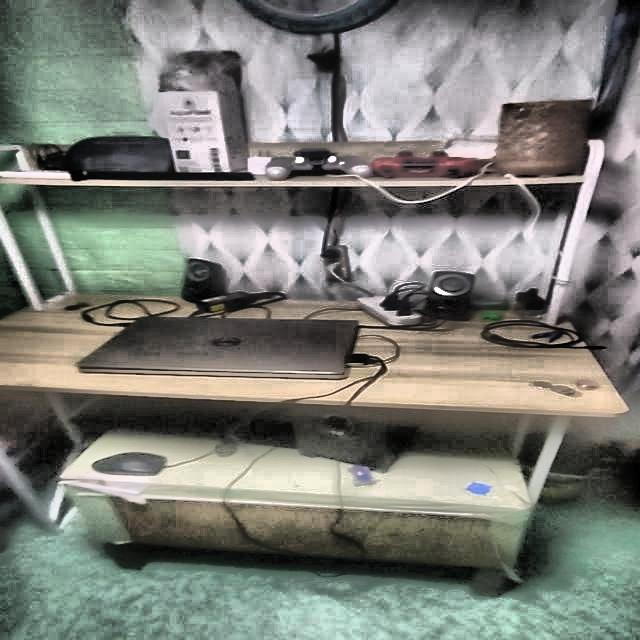mesa: (0, 280, 640, 596)
